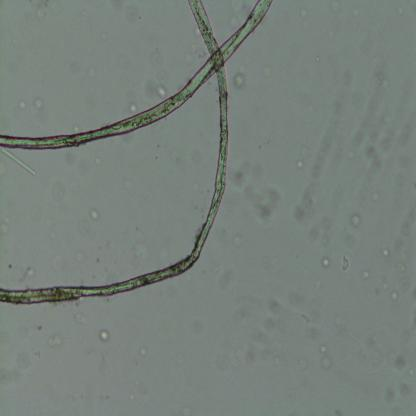Background material: (304, 141, 329, 206), (252, 184, 284, 221), (228, 0, 249, 31), (144, 76, 166, 100), (30, 0, 51, 20), (318, 342, 332, 372), (268, 294, 286, 317), (365, 146, 381, 169), (185, 38, 199, 64), (44, 329, 63, 347), (297, 144, 310, 169), (230, 72, 248, 90), (76, 214, 90, 235), (0, 213, 12, 237), (32, 93, 47, 111), (73, 308, 88, 326), (383, 386, 398, 404), (220, 266, 230, 290), (296, 354, 309, 372), (374, 73, 388, 89), (298, 310, 312, 326), (24, 263, 37, 280), (294, 202, 306, 220), (339, 253, 350, 271), (350, 212, 363, 227), (89, 205, 100, 222), (242, 182, 253, 198), (320, 255, 332, 269), (396, 355, 407, 370), (234, 170, 244, 185), (138, 343, 148, 358), (17, 98, 27, 113), (394, 260, 406, 272), (360, 268, 371, 281), (232, 233, 242, 247), (99, 328, 109, 342), (264, 63, 274, 77), (369, 190, 380, 202), (87, 67, 98, 78), (400, 385, 411, 396), (191, 24, 201, 36), (383, 245, 392, 258), (380, 279, 389, 292), (389, 290, 399, 301), (75, 252, 85, 263), (129, 101, 137, 114), (407, 367, 416, 378), (333, 408, 344, 416), (349, 151, 355, 160), (264, 138, 271, 145), (36, 350, 42, 358), (315, 55, 320, 62)
Glass filter fibre: (1, 148, 36, 177)
Microfibre: (0, 0, 229, 308), (0, 0, 272, 154)
